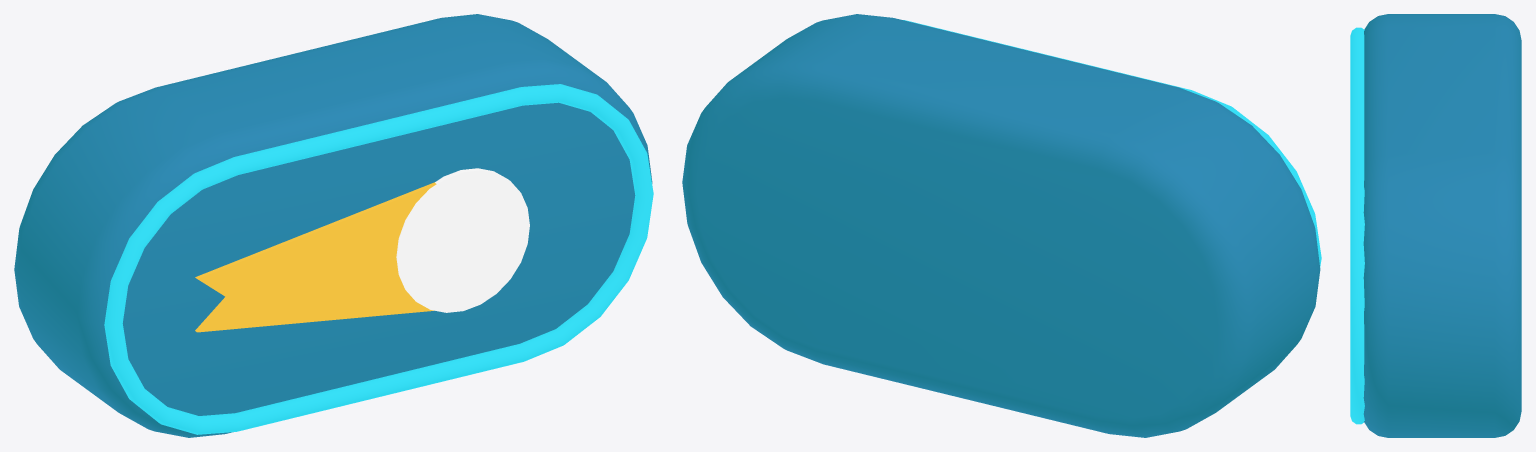
The model's file is capsule_komet.glb.
The picture shows the model from 3 angles, left to right: view 1: azimuth 30°, elevation 25°; view 2: azimuth 150°, elevation 25°; view 3: azimuth 270°, elevation 25°; orthographic projection. The views are drawn at different scales.
Parts seen in each view (by area): view 1: capsule_komet; view 2: capsule_komet; view 3: capsule_komet.
Boxes of the visible parts, x1,y1,x2,y2 form: capsule_komet: (14, 14, 653, 437); capsule_komet: (682, 14, 1321, 437); capsule_komet: (1350, 14, 1521, 437).
Size of the model in its own units: 1.12 by 0.56 by 0.321.
